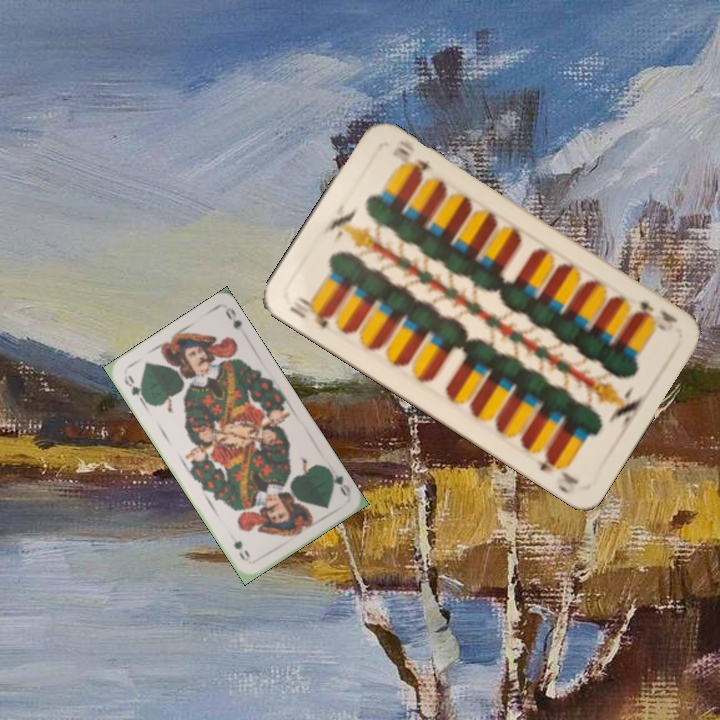E10: (285, 292, 335, 331), (630, 297, 680, 335)
GO: (322, 464, 354, 499), (119, 371, 149, 407)
